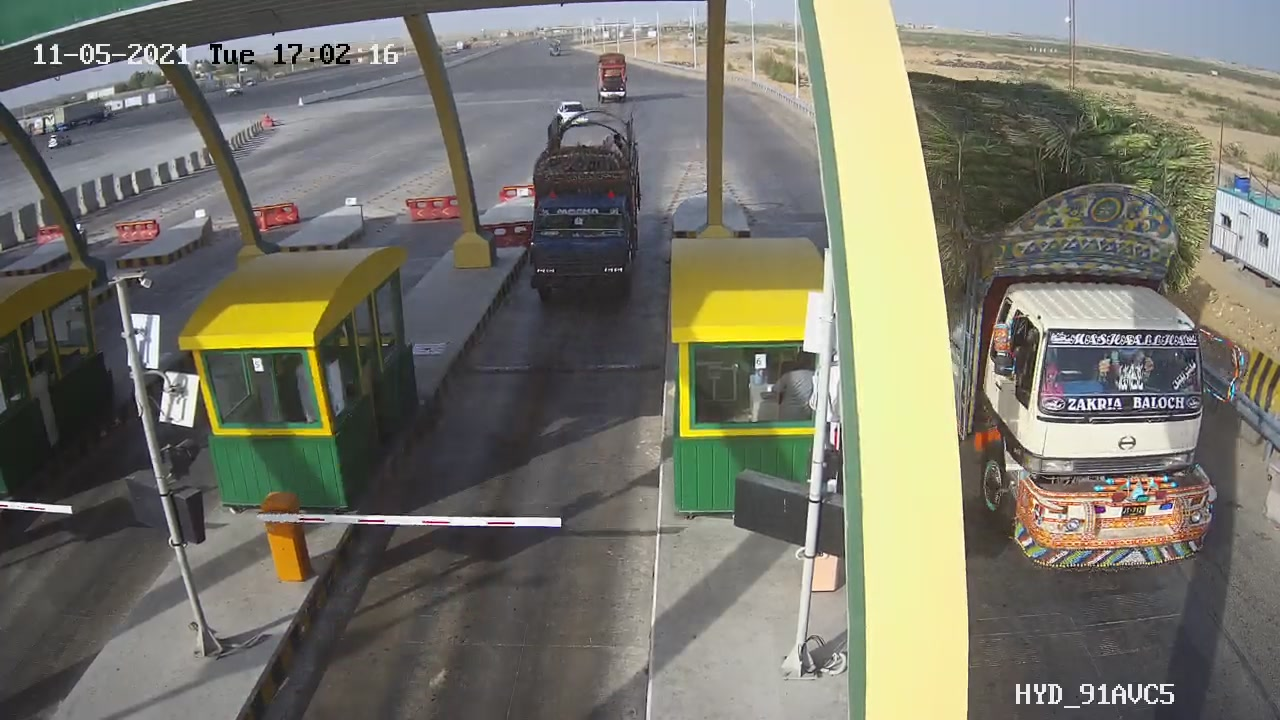F5: (509, 101, 659, 317)
